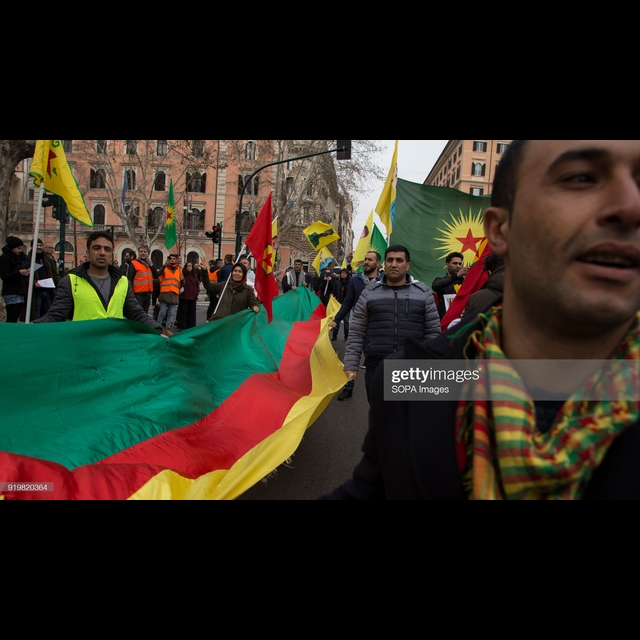KCK: (428, 199, 480, 260), (164, 179, 180, 250)
PKK: (260, 238, 275, 280)
YPG: (35, 137, 69, 188)
